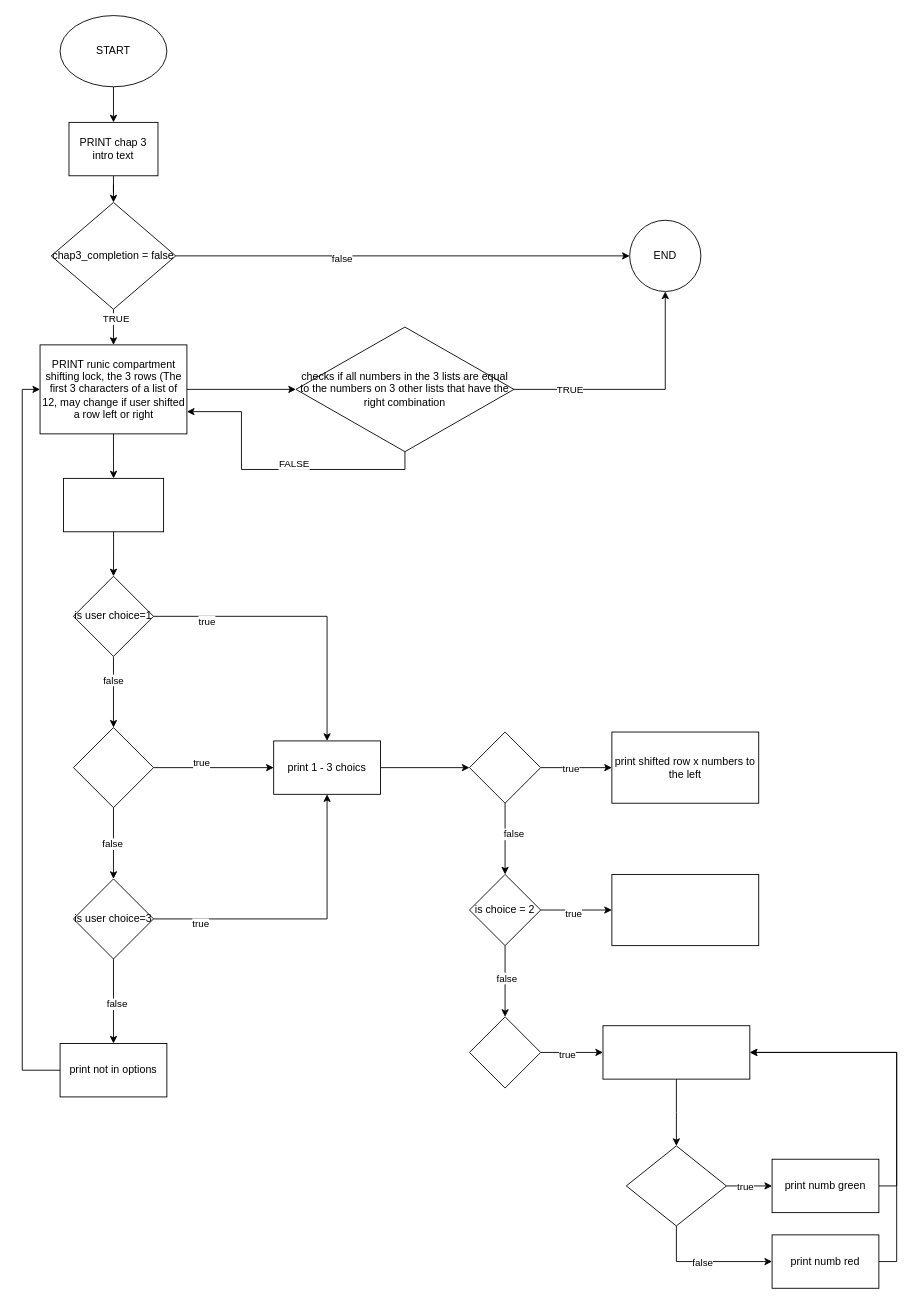
The diagram is 919 pixels wide and 1304 high, and some of its shapes have lost their labels. Each missing label, with the centre of its shape:
for the 3 numbsin list x: (x=676, y=1052)
is choice = 1: (x=505, y=767)
is choice = 3: (x=505, y=1052)
is numb = currectnumb: (x=675, y=1185)
is user choice=2: (x=113, y=767)
PRINT choices 1 - 3: (x=113, y=504)
print shifted row x numbers to the right: (x=685, y=910)
